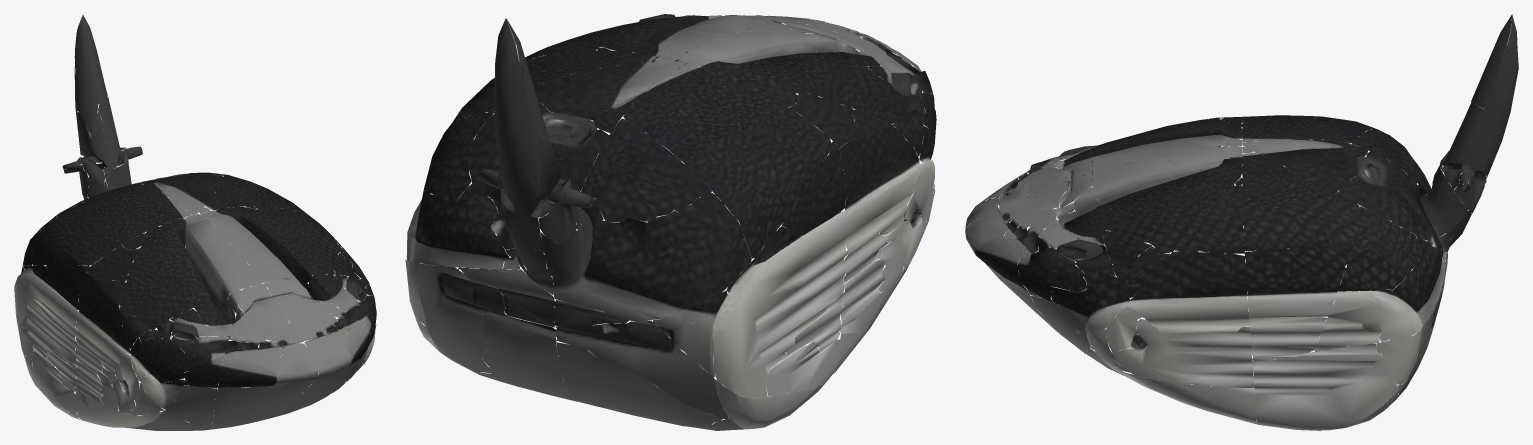
File: driver.glb
3 renders of one model, left to right at view 1: azimuth 30°, elevation 25°; view 2: azimuth 150°, elevation 25°; view 3: azimuth 270°, elevation 25°, orthographic. The views are drawn at different scales.
Visible parts, largest first — view 1: tripo_node_c5d0d9f0-98cb-452c-bbe2-0831a1186072; view 2: tripo_node_c5d0d9f0-98cb-452c-bbe2-0831a1186072; view 3: tripo_node_c5d0d9f0-98cb-452c-bbe2-0831a1186072.
Boxes of the visible parts, x1,y1,x2,y2 form: tripo_node_c5d0d9f0-98cb-452c-bbe2-0831a1186072: (14, 15, 376, 430); tripo_node_c5d0d9f0-98cb-452c-bbe2-0831a1186072: (405, 14, 936, 430); tripo_node_c5d0d9f0-98cb-452c-bbe2-0831a1186072: (965, 14, 1518, 430).
Bounding box in the file's own units: 0.5855 × 0.7219 × 0.999.
1 material, 1 textured.
